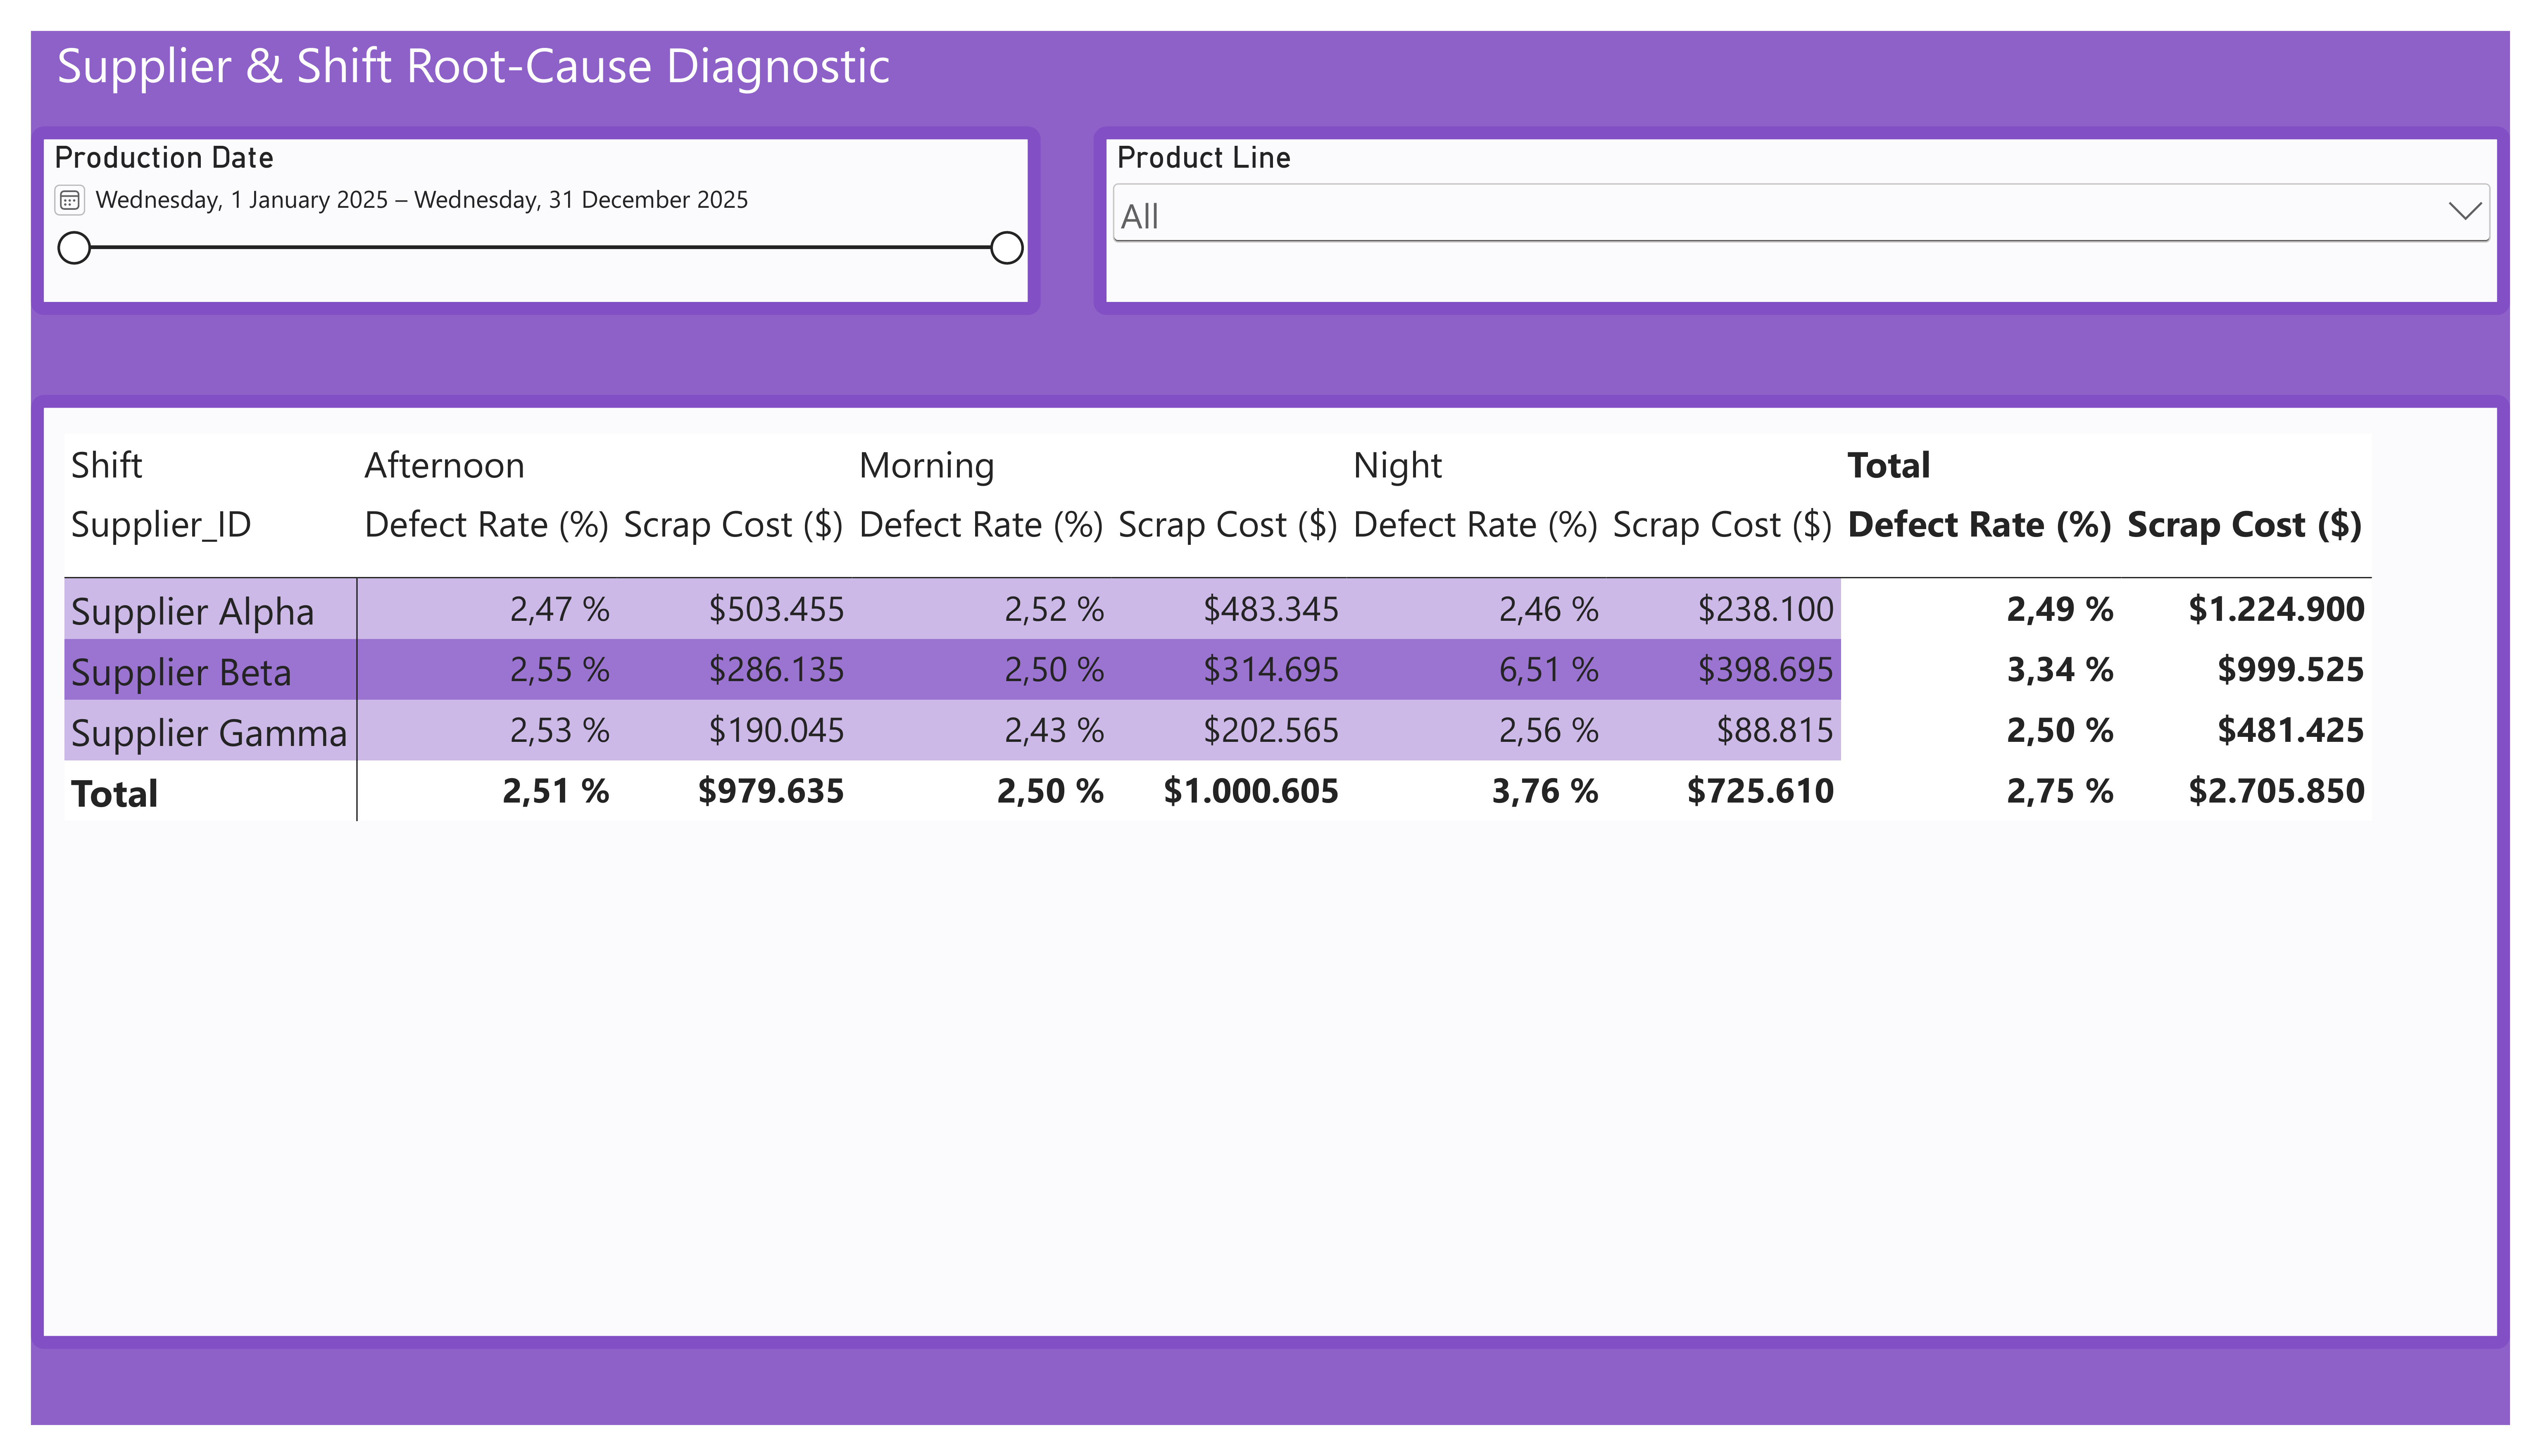

The page's visual inventory and layout, read from the dashboard file:
{"tool":"powerbi","page":{"name":"Supplier & Shift Root-Cause Analysis","canvas":[1920,1080],"ordinal":1},"visuals":[{"type":"pivotTable","fields":{"Columns":["manufacturing_quality_data.Shift"],"Rows":["manufacturing_quality_data.Supplier_ID"],"Values":["manufacturing_quality_data.Defect Rate (%)","manufacturing_quality_data.Scrap Cost ($)"]},"box":[0,282,1920.4,738.9],"z":0},{"type":"slicer","fields":{"Values":["manufacturing_quality_data.Product_Line"]},"box":[823.3,74.1,1097.1,146.1],"z":1000},{"type":"slicer","fields":{"Values":["manufacturing_quality_data.Production_Date"]},"box":[0,74.1,782.2,146.1],"z":1001},{"type":"textbox","box":[0,0,1920.4,76.2],"z":1002}]}

Visuals, with their boxes on the page's 1920x1080 design canvas (x1, y1, x2, y2). These are canvas units, not pixel positions in the 2541x1456 screenshot, which may show the page scaled, cropped or inside an application window:
pivotTable - manufacturing_quality_data.Shift x manufacturing_quality_data.Supplier_ID: (0, 282, 1920, 1021)
slicer - manufacturing_quality_data.Product_Line: (823, 74, 1920, 220)
slicer - manufacturing_quality_data.Production_Date: (0, 74, 782, 220)
textbox: (0, 0, 1920, 76)
